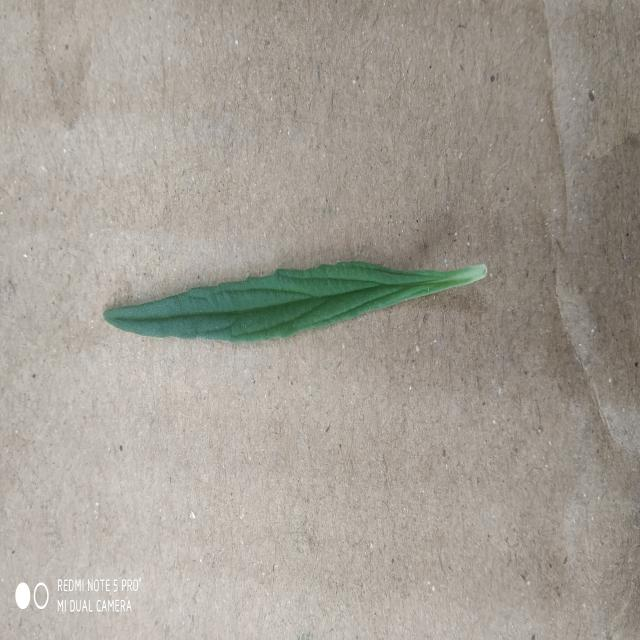thambe: (104, 262, 488, 342)
